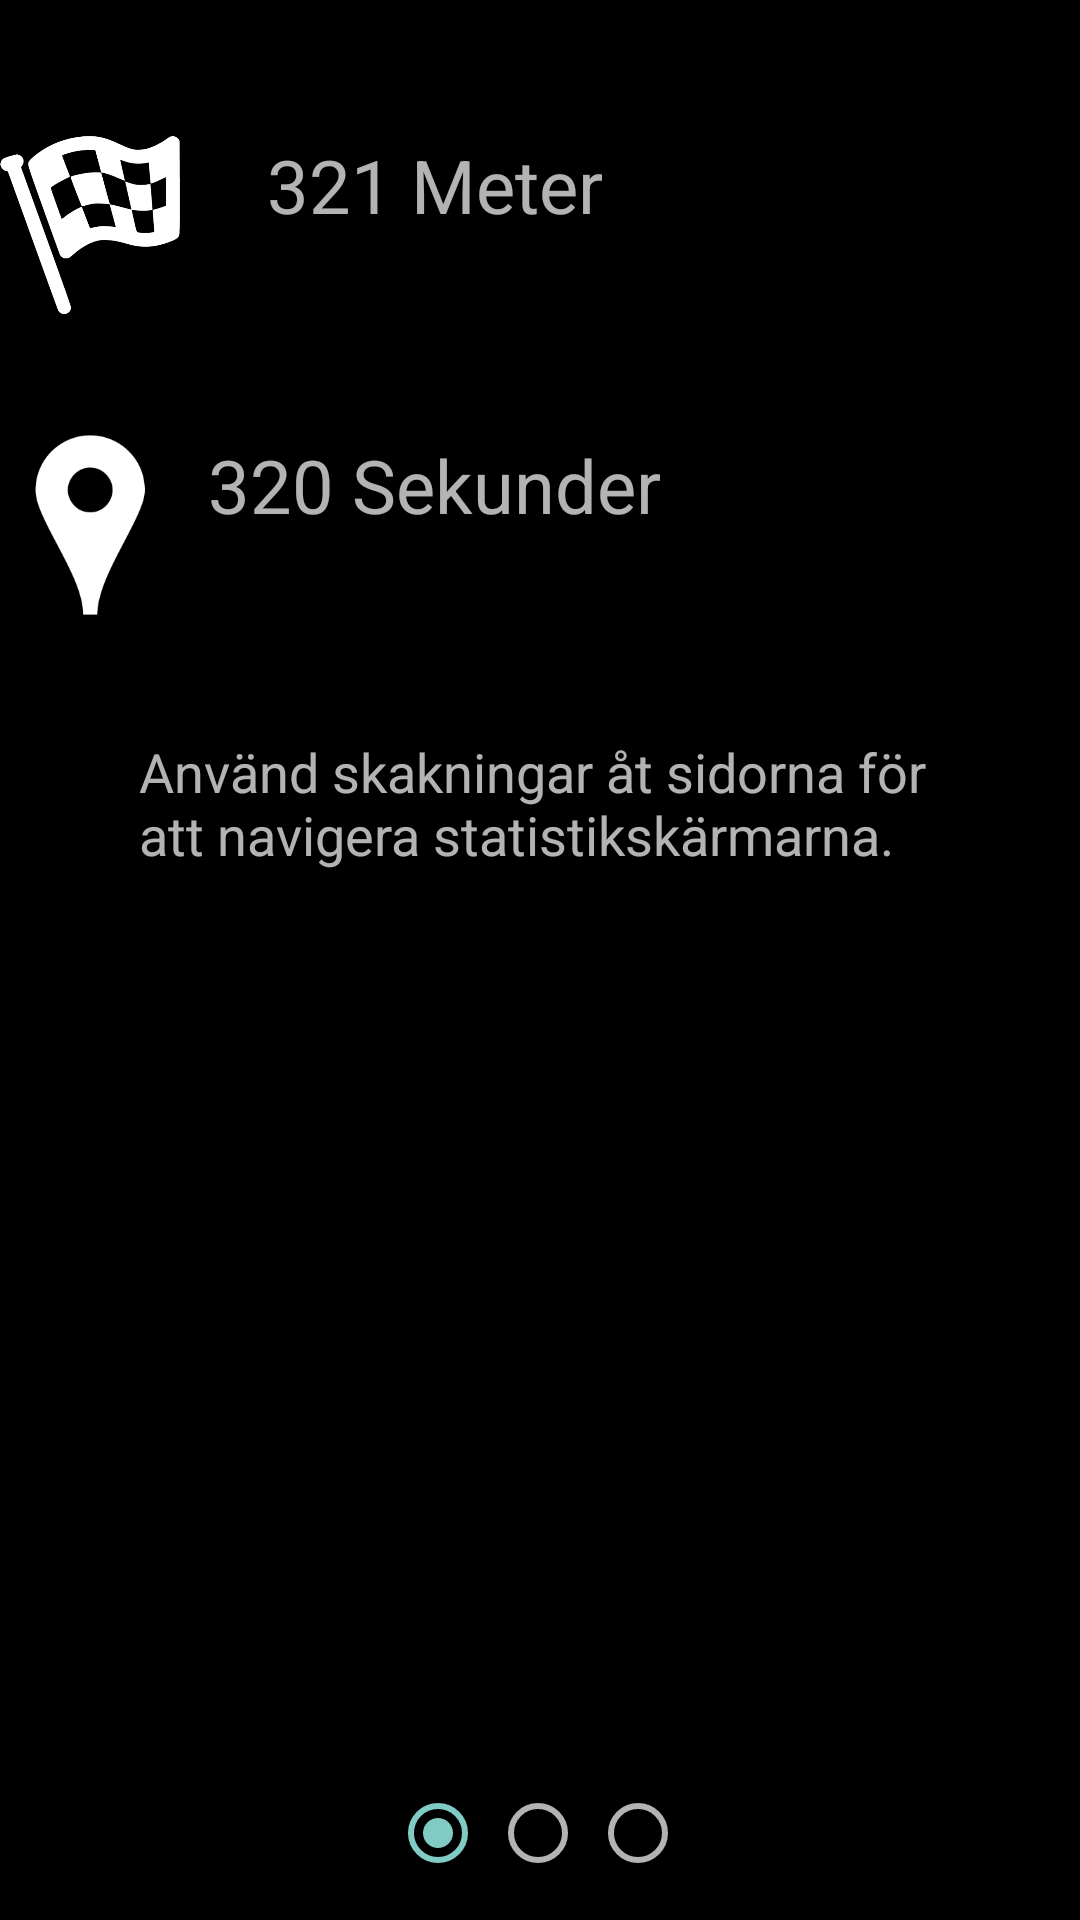

Icons on this 1080*1920 Android screen, each with its box as region(x1, y1, x2, y2):
finish: region(0, 136, 180, 314)
marker: region(35, 435, 145, 615)
